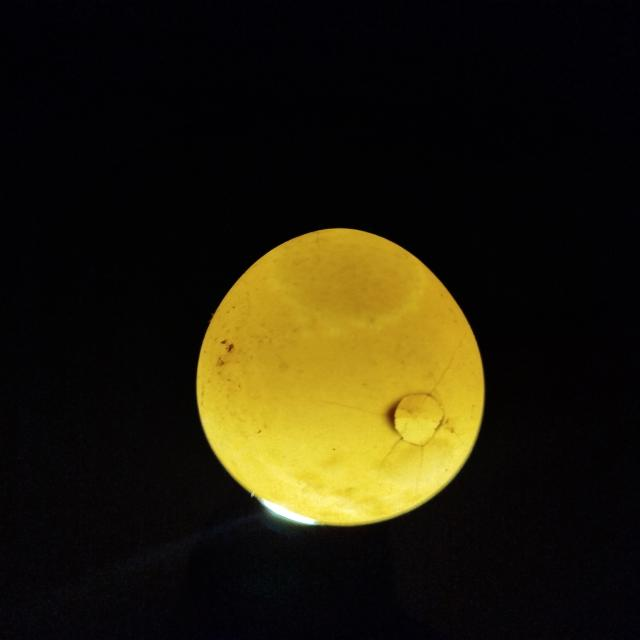Camara de Ar: (269, 228, 425, 330)
Rachadura: (325, 357, 465, 480)
